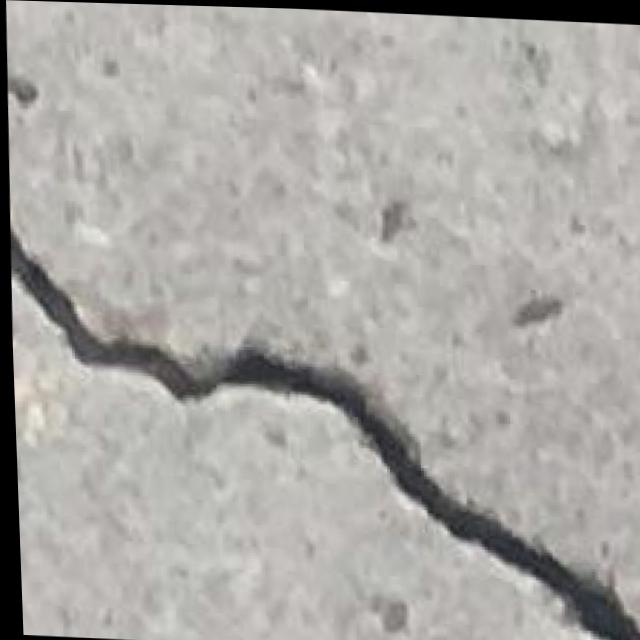Crack: (7, 231, 640, 640)
